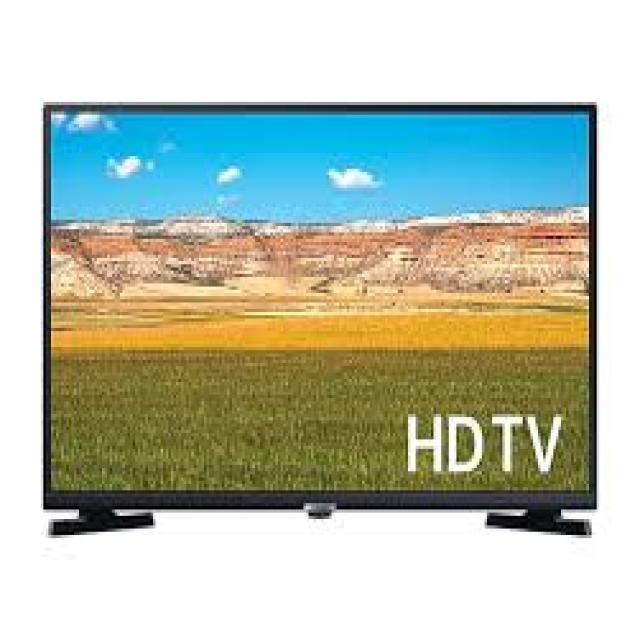tv: (34, 92, 605, 521)
